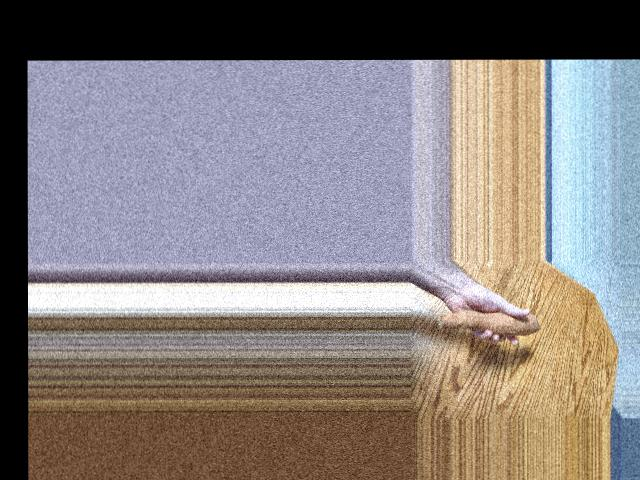sweet_potato: (434, 298, 549, 338)
